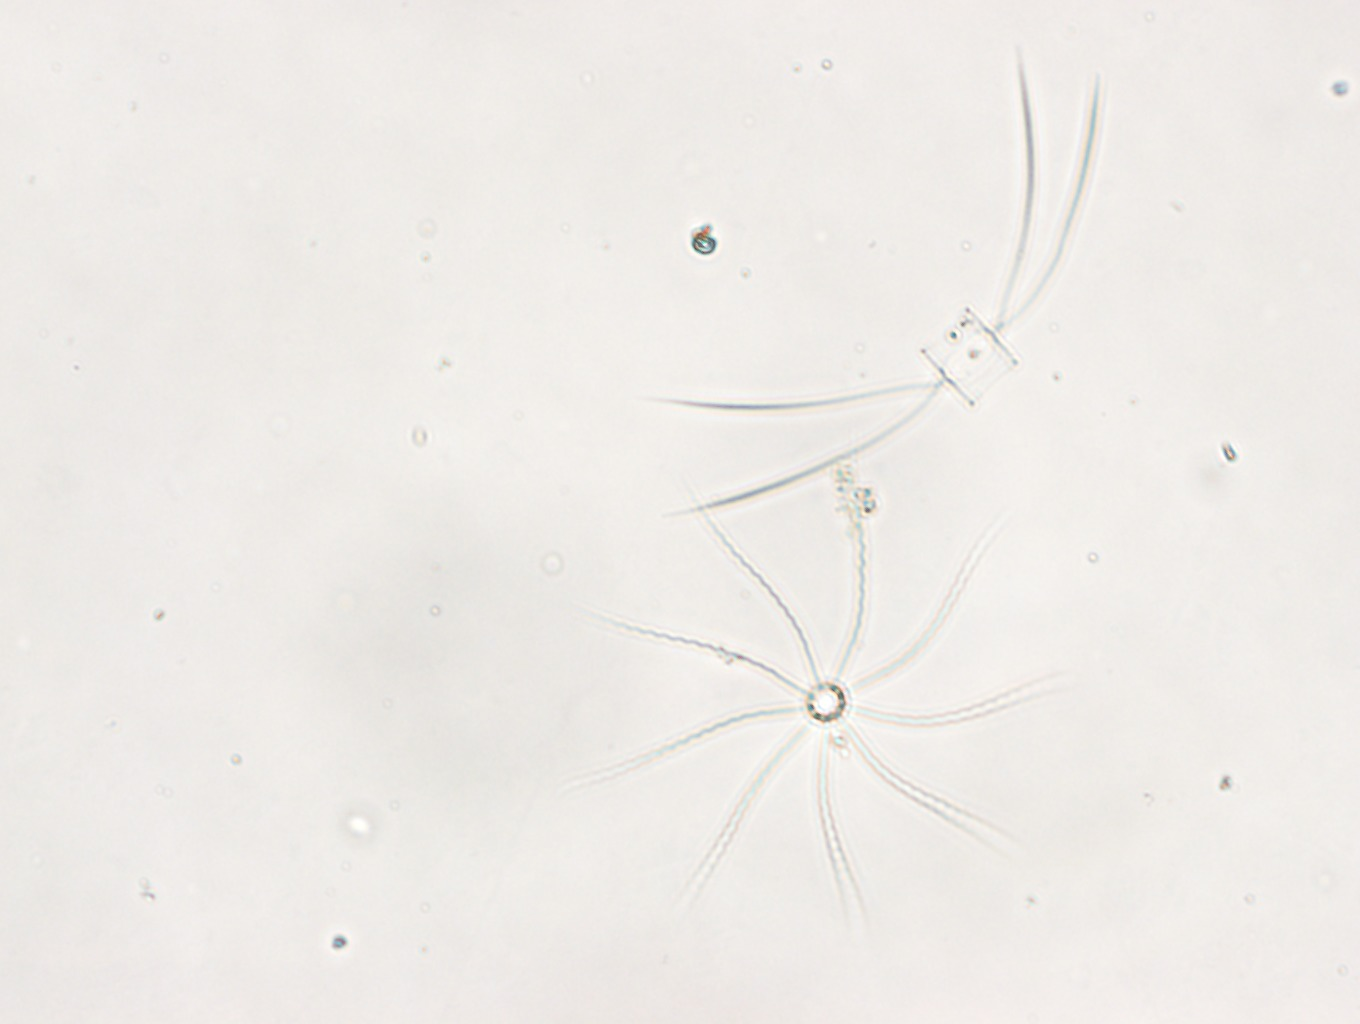bacteriastrum: (588, 485, 1076, 939)
chaetoceros: (644, 44, 1097, 517)
